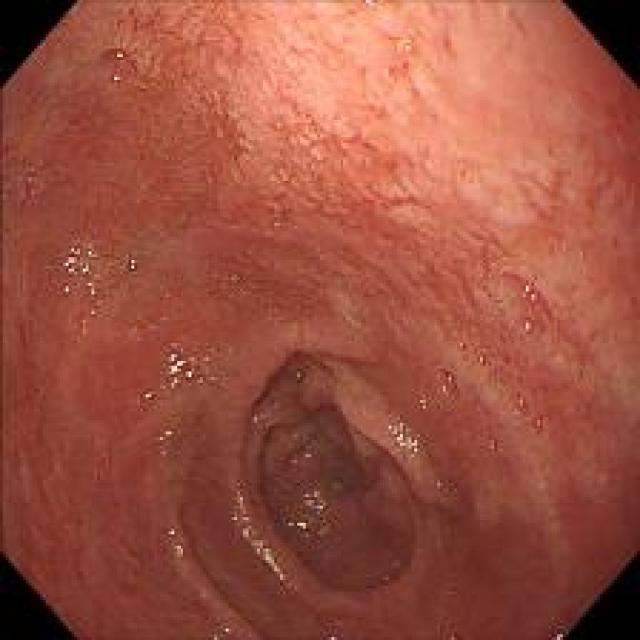bubbles: (88, 41, 150, 95), (504, 389, 546, 439), (426, 356, 462, 414), (388, 32, 430, 71), (16, 172, 49, 206), (352, 0, 379, 15), (379, 66, 396, 81), (476, 352, 489, 368), (454, 339, 468, 351)
color misalignment: (231, 494, 285, 579), (295, 482, 331, 541), (385, 420, 419, 460)
specularity: (231, 494, 286, 581), (55, 238, 111, 318), (292, 475, 332, 544), (164, 344, 209, 389), (384, 419, 419, 459), (150, 426, 180, 461), (122, 251, 141, 282), (524, 280, 541, 309), (168, 526, 182, 556), (519, 318, 532, 332), (440, 382, 450, 399), (142, 389, 154, 401), (488, 436, 496, 454), (446, 371, 455, 385), (222, 626, 231, 634), (295, 371, 301, 380), (435, 481, 442, 488)
